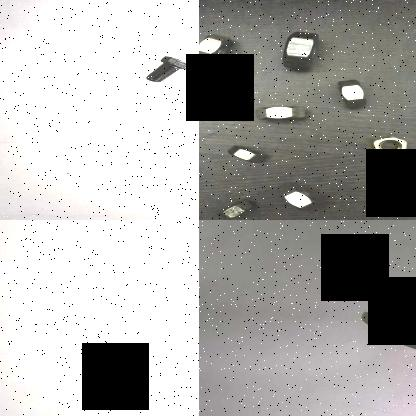Bolts: (140, 55, 196, 88)
NUTS: (264, 31, 324, 72), (268, 180, 320, 214), (330, 75, 377, 111), (254, 98, 310, 126), (363, 134, 416, 162), (199, 32, 236, 72), (226, 144, 271, 168), (215, 197, 258, 220)
